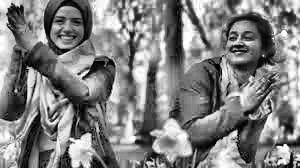happy: (44, 11, 94, 58)
